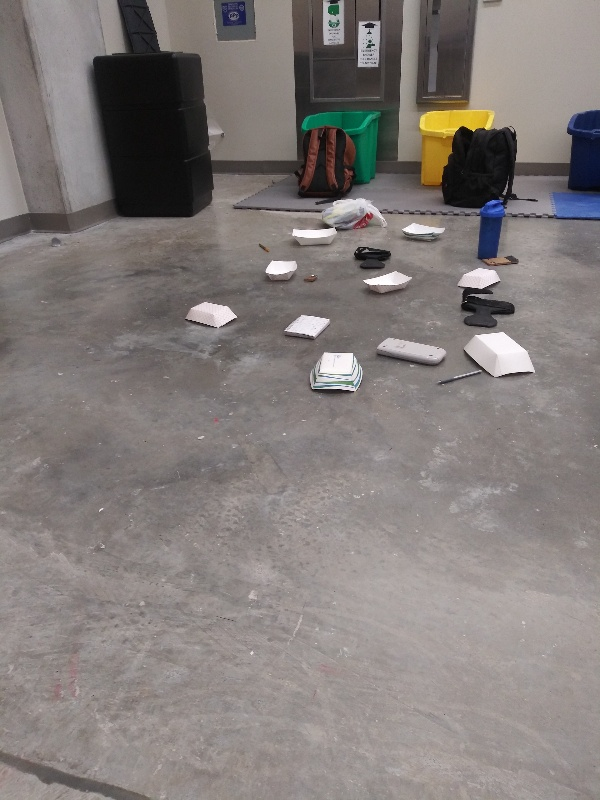plate: (460, 328, 538, 381), (307, 347, 366, 400), (181, 298, 239, 330), (360, 268, 419, 297), (453, 264, 504, 292), (397, 219, 452, 244), (288, 224, 338, 250), (262, 257, 304, 282)
